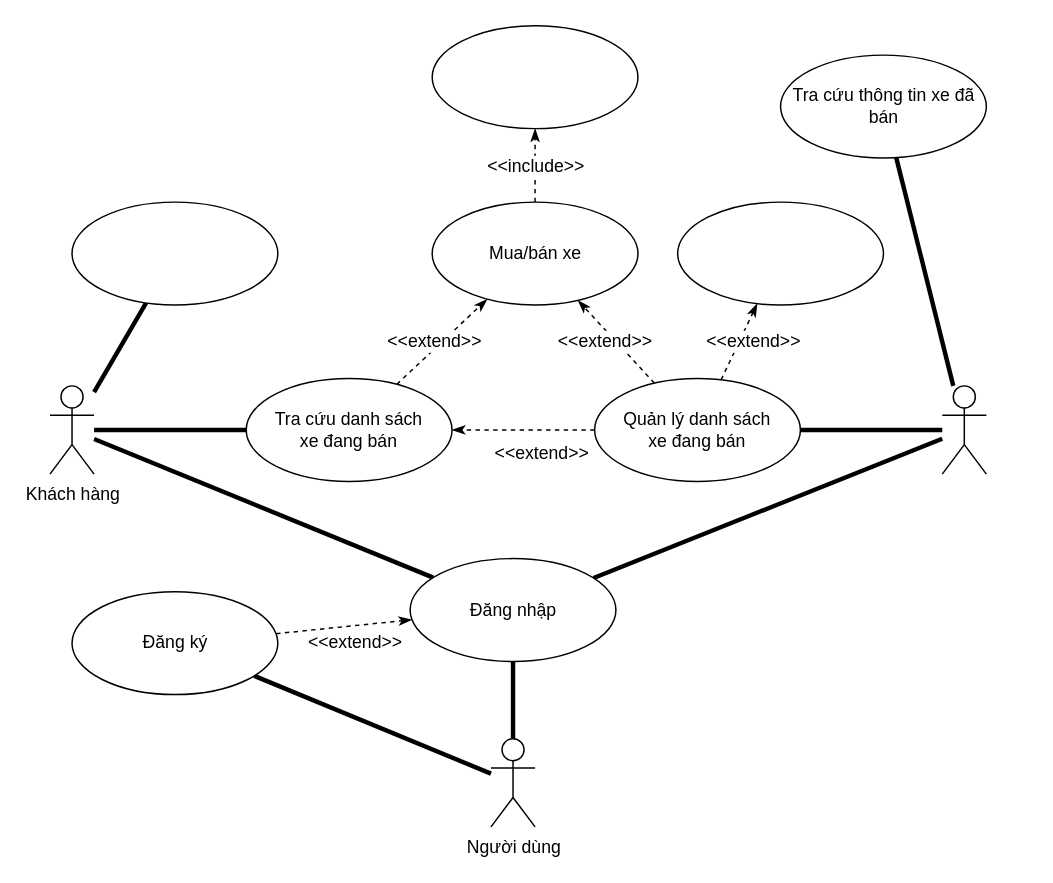
Some shapes in this 1053 by 883 pixel diagram are drawn without their labels. The shapes that lost their labels are listed below. From the top down, each one's box as (x1, y1, x2, y2) in pixels, then its label:
(431, 24, 638, 129): Hoàn tất thông tin mua bán xe
(71, 201, 278, 305): Quản lý thông tin cá nhân
(676, 201, 883, 305): Nhập xe mới
(941, 384, 986, 474): Nhân viên đại lý
